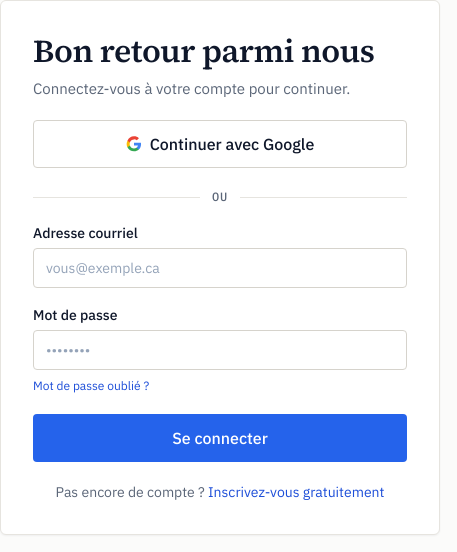
Test: SignInForm › bascule vers l'écran de vérification sur EMAIL_NOT_VERIFIED
The image size is (457, 552).
Click the field with test id "auth-email" at {"x": 220, "y": 268}, box top-left (33, 248), bottom-right (407, 288)
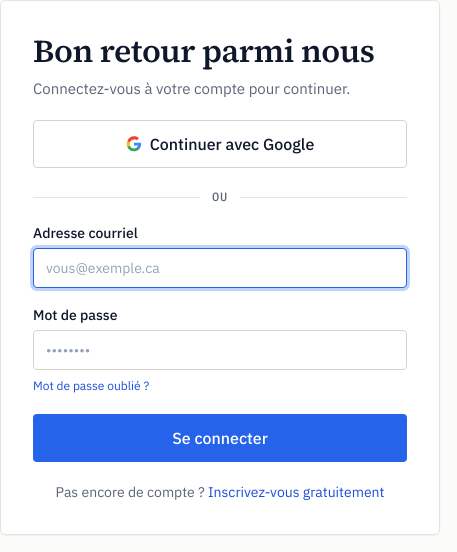
Type keys "user@example.com"
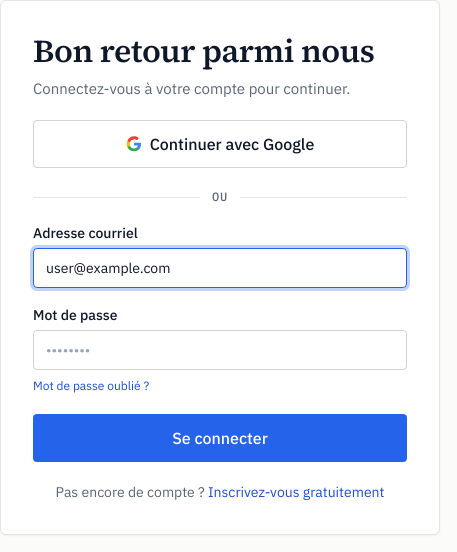
Click the password field with test id "auth-password" at {"x": 220, "y": 350}, box top-left (33, 330), bottom-right (407, 370)
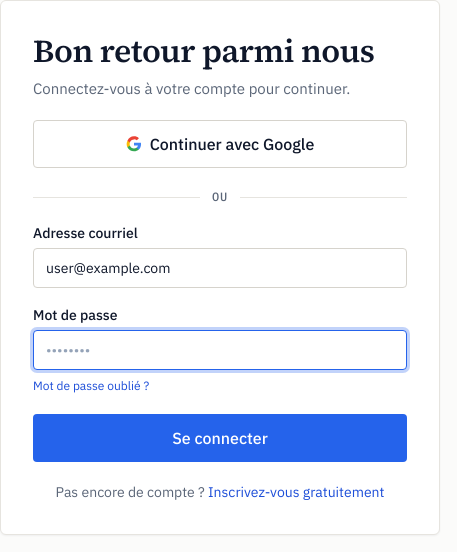
Type keys "password123"
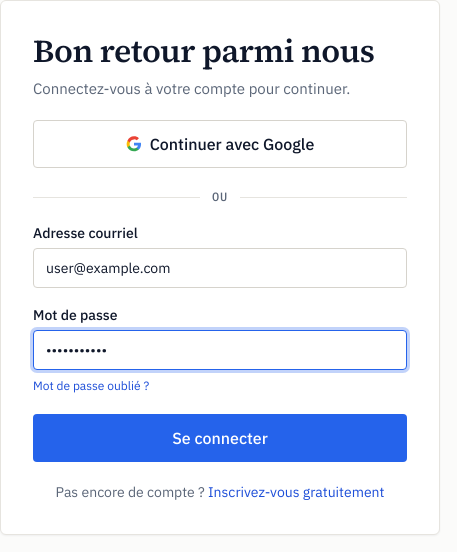
Click the button with test id "auth-submit" at {"x": 220, "y": 438}, box top-left (33, 414), bottom-right (407, 462)
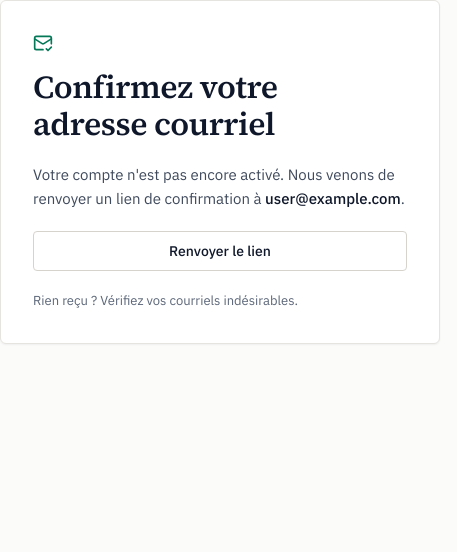
Expected: the element with test id "auth-check-email" is shown, top-left (0, 0), bottom-right (440, 344)
